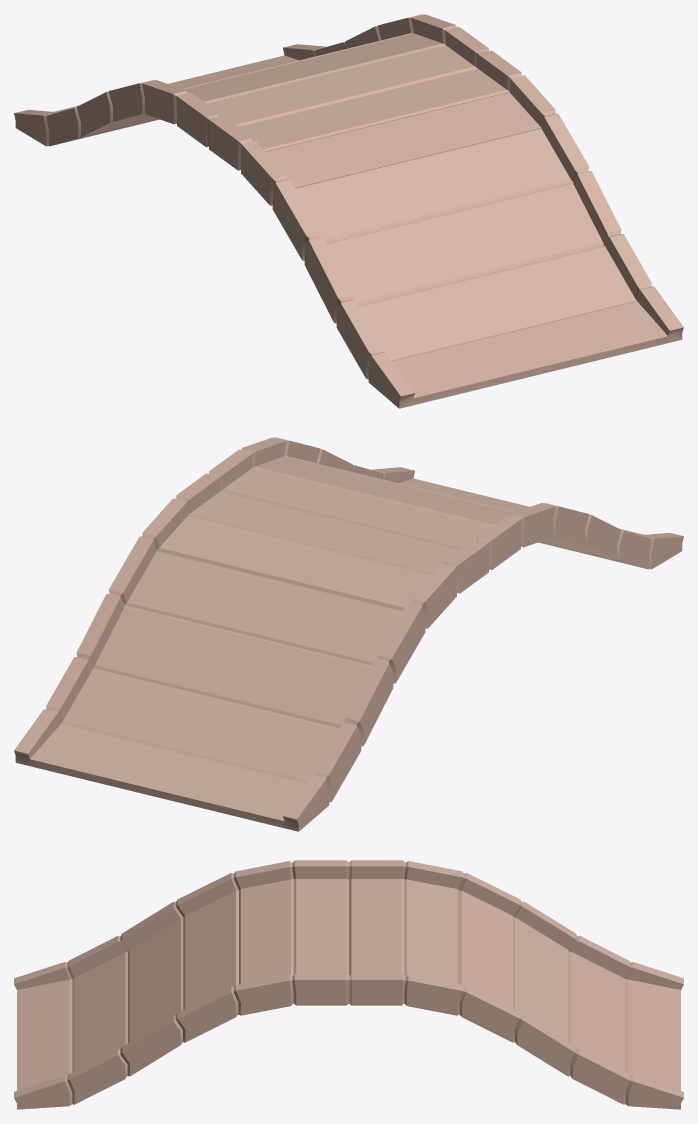
The model's file is pontVolcan.fbx.
3 views of the same model, one above another, from view 1: azimuth 30°, elevation 25°; view 2: azimuth 150°, elevation 25°; view 3: azimuth 270°, elevation 25° (orthographic). The views are drawn at different scales.
Parts seen in each view (by area): view 1: pontVolcan; view 2: pontVolcan; view 3: pontVolcan.
Boxes of the visible parts, left/top/right/bottom form: pontVolcan: left=14, top=14, right=683, bottom=408; pontVolcan: left=14, top=437, right=683, bottom=831; pontVolcan: left=14, top=860, right=683, bottom=1109.
Size of the model in its own units: 13.84 by 7.01 by 32.77.
